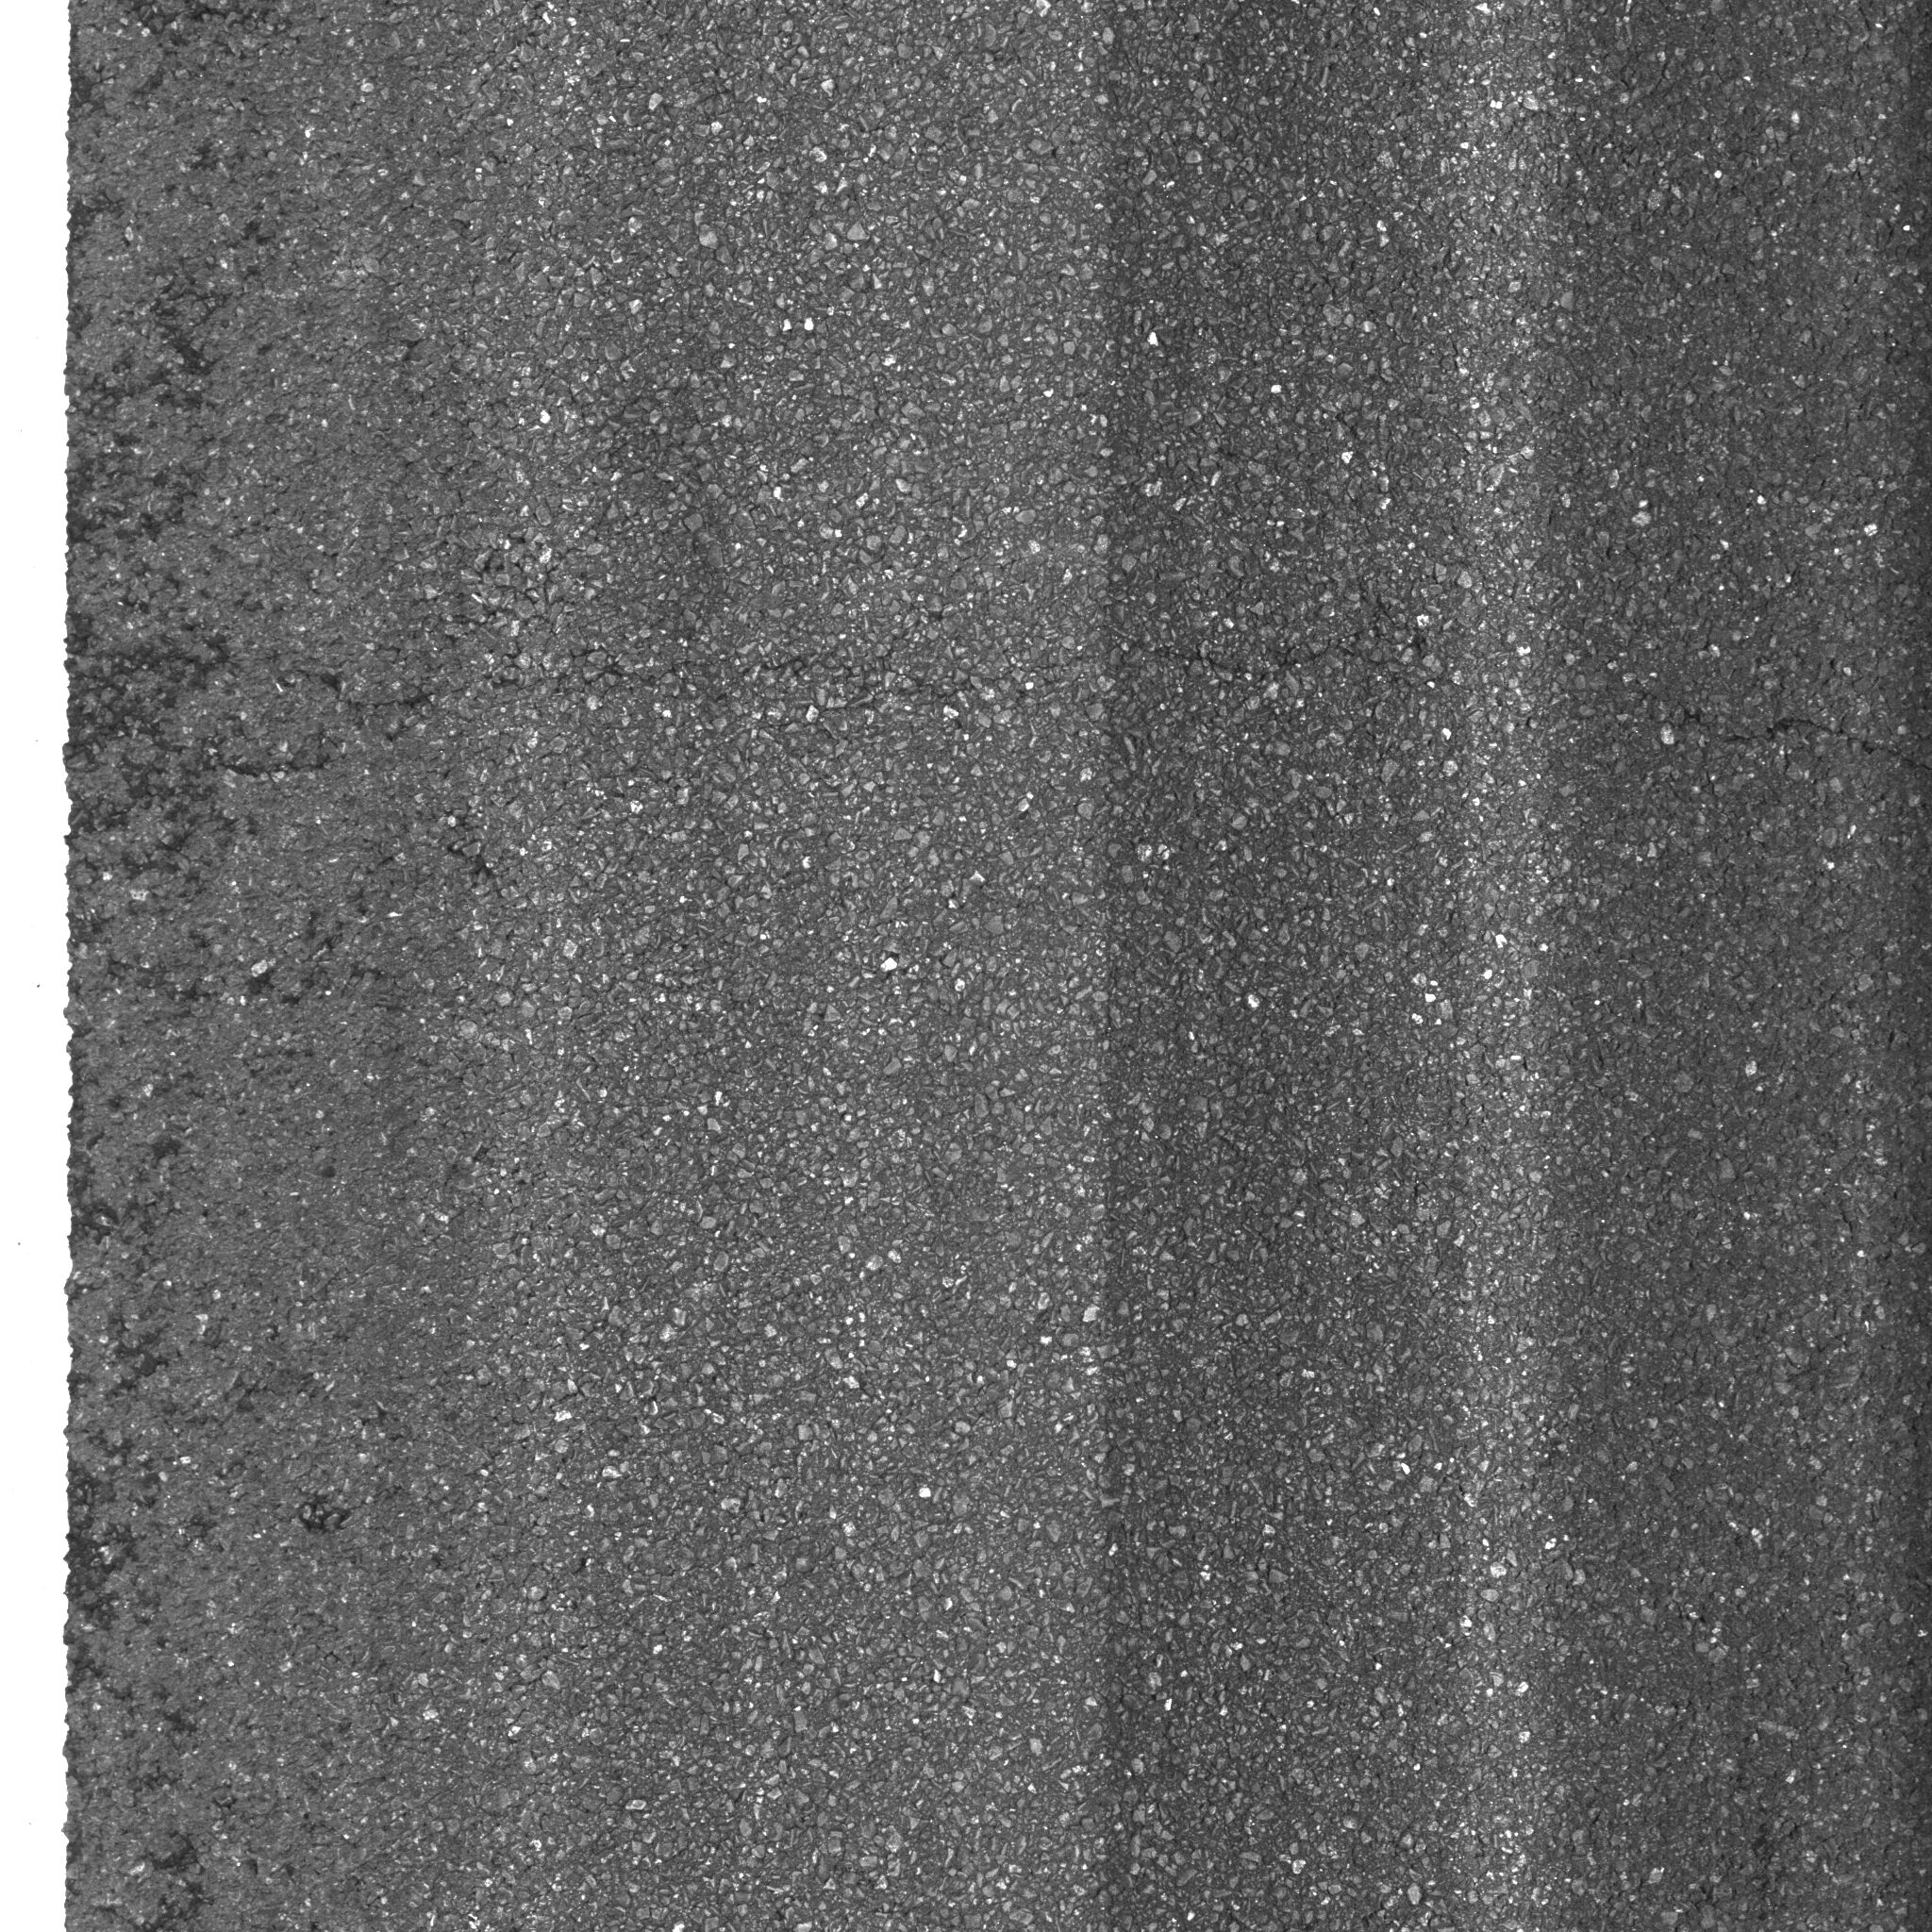transeverse: (318, 602, 1932, 812)
